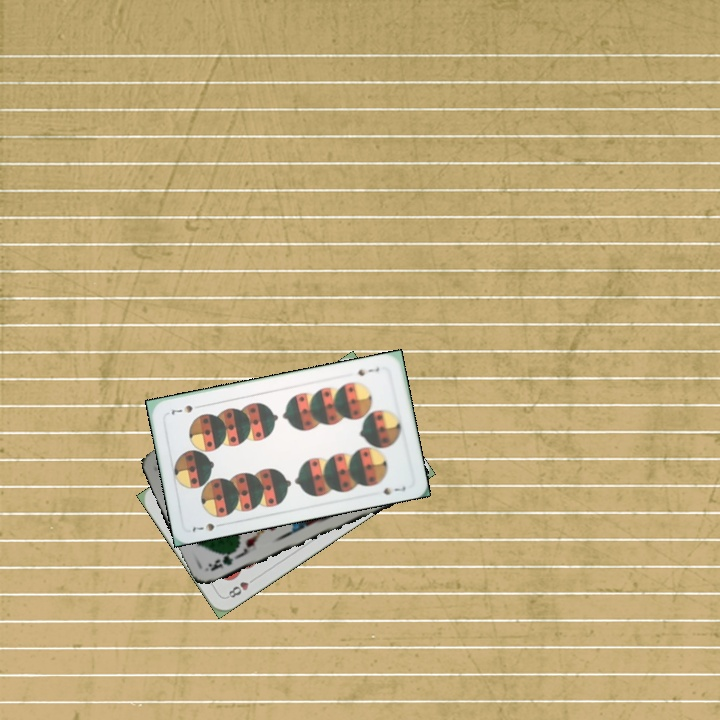GK: (203, 547, 239, 574)
H8: (222, 573, 259, 601)
S7: (188, 519, 227, 534), (354, 363, 382, 379)
